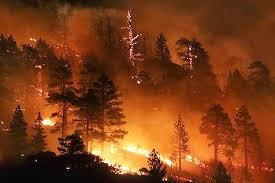fire: (88, 136, 154, 175), (37, 112, 60, 129), (21, 32, 39, 47), (159, 152, 175, 167), (184, 153, 200, 166)
